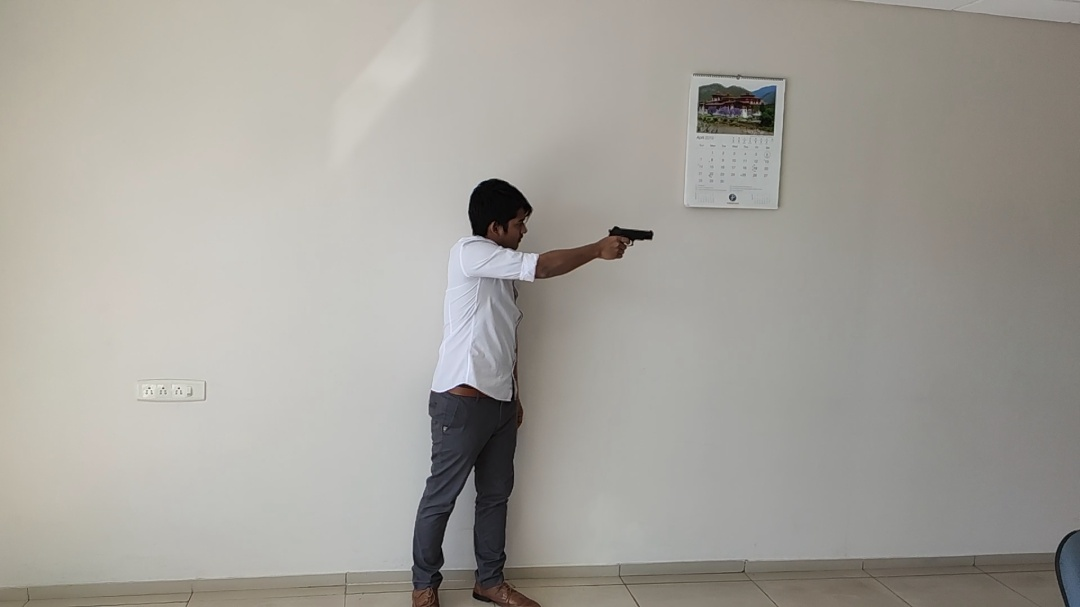gun: (608, 226, 654, 248)
